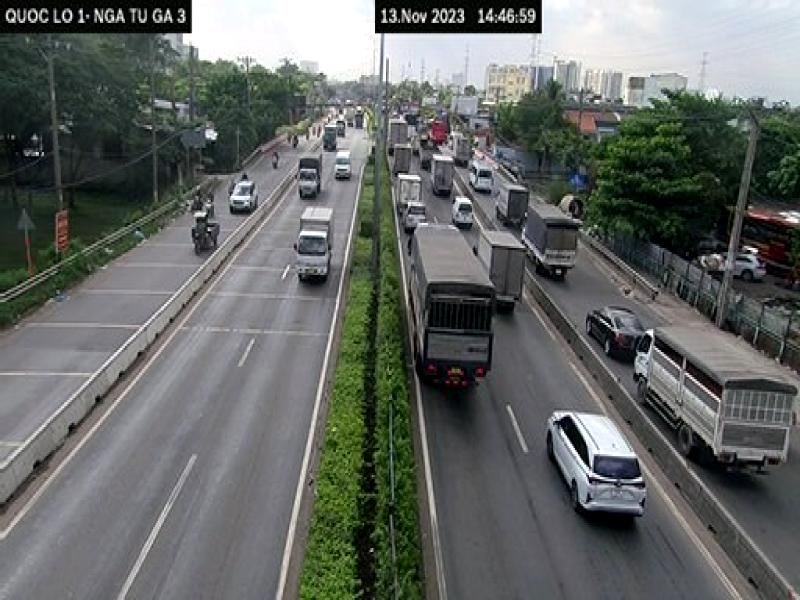truck: (630, 318, 800, 483)
